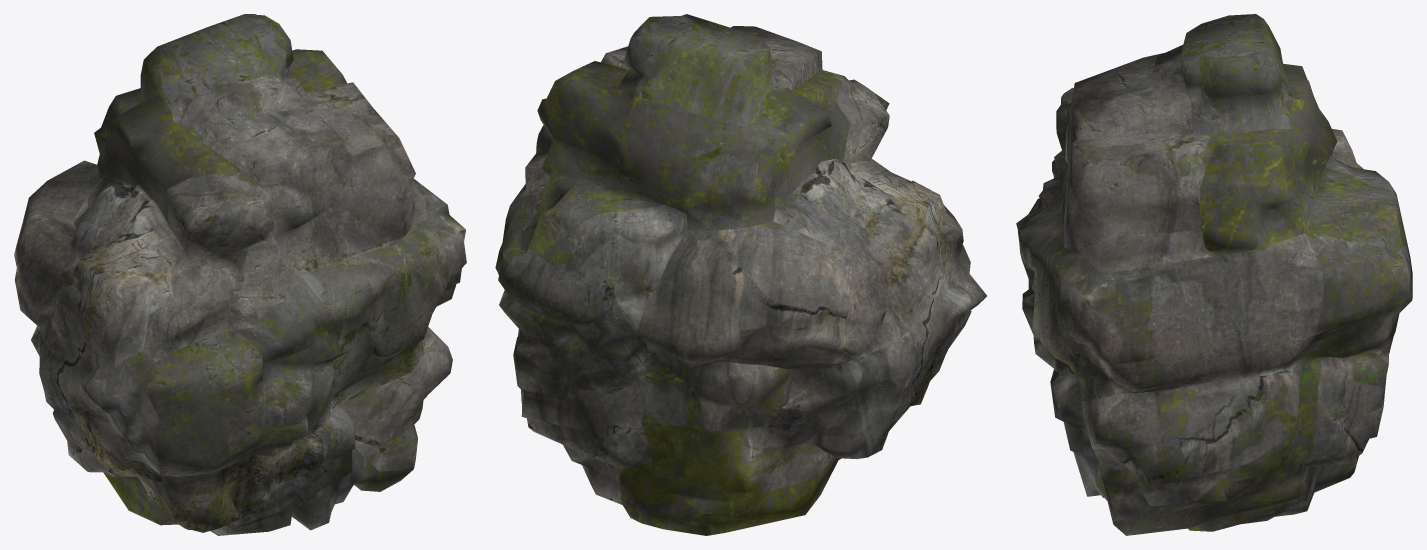
Rendered from Rock23.fbx.
3 views of the same model, side by side, from view 1: azimuth 30°, elevation 25°; view 2: azimuth 150°, elevation 25°; view 3: azimuth 270°, elevation 25° (orthographic). The views are drawn at different scales.
Visible parts, largest first — view 1: LV_Gnollando_Rock_jungleArea03_SM_LHJ; view 2: LV_Gnollando_Rock_jungleArea03_SM_LHJ; view 3: LV_Gnollando_Rock_jungleArea03_SM_LHJ.
Boxes of the visible parts, x1=… form: LV_Gnollando_Rock_jungleArea03_SM_LHJ: x1=14, y1=14, x2=466, y2=535; LV_Gnollando_Rock_jungleArea03_SM_LHJ: x1=495, y1=14, x2=986, y2=535; LV_Gnollando_Rock_jungleArea03_SM_LHJ: x1=1016, y1=14, x2=1412, y2=535.
Size of the model in its own units: 2.96 by 3.43 by 2.68.
1 material, 1 textured.
